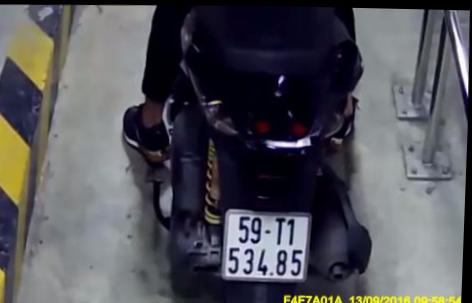LP: (218, 204, 315, 284)
